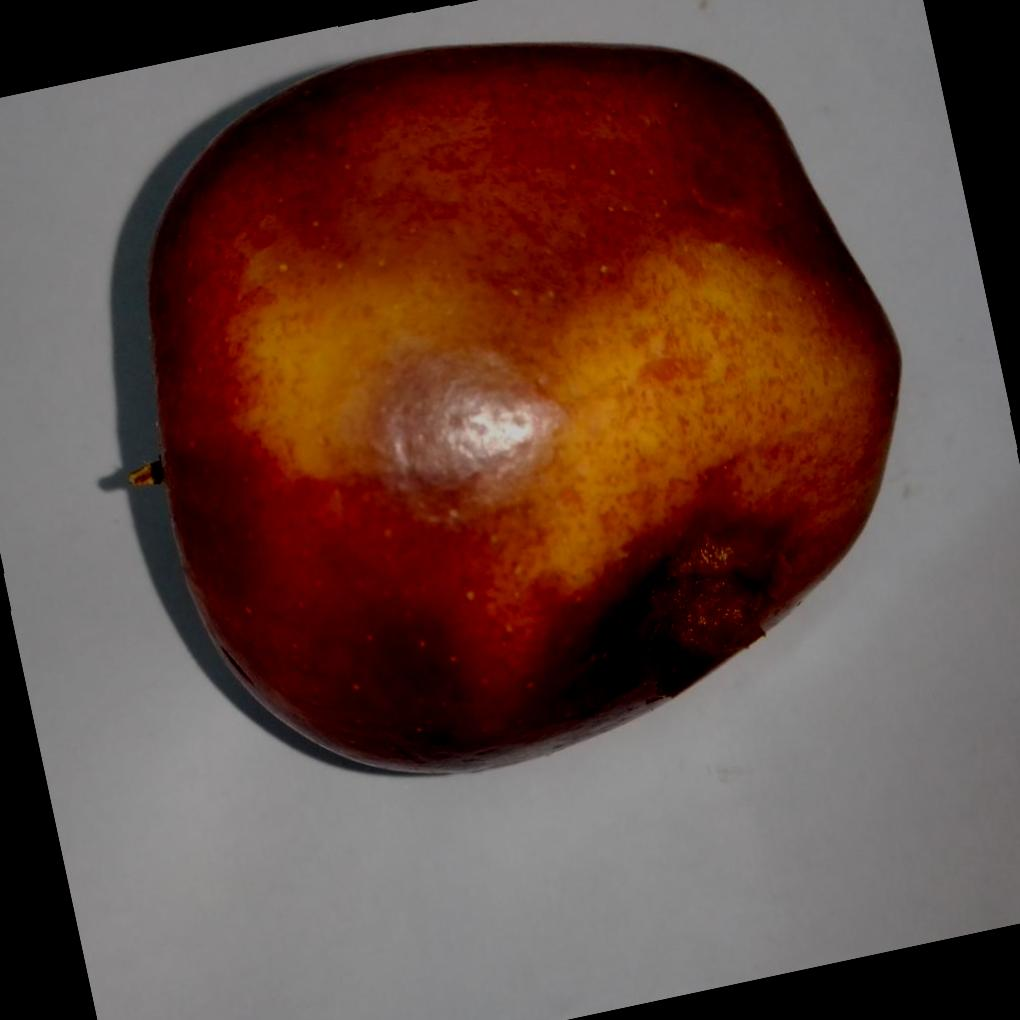FreshOrange: (144, 43, 903, 779)
